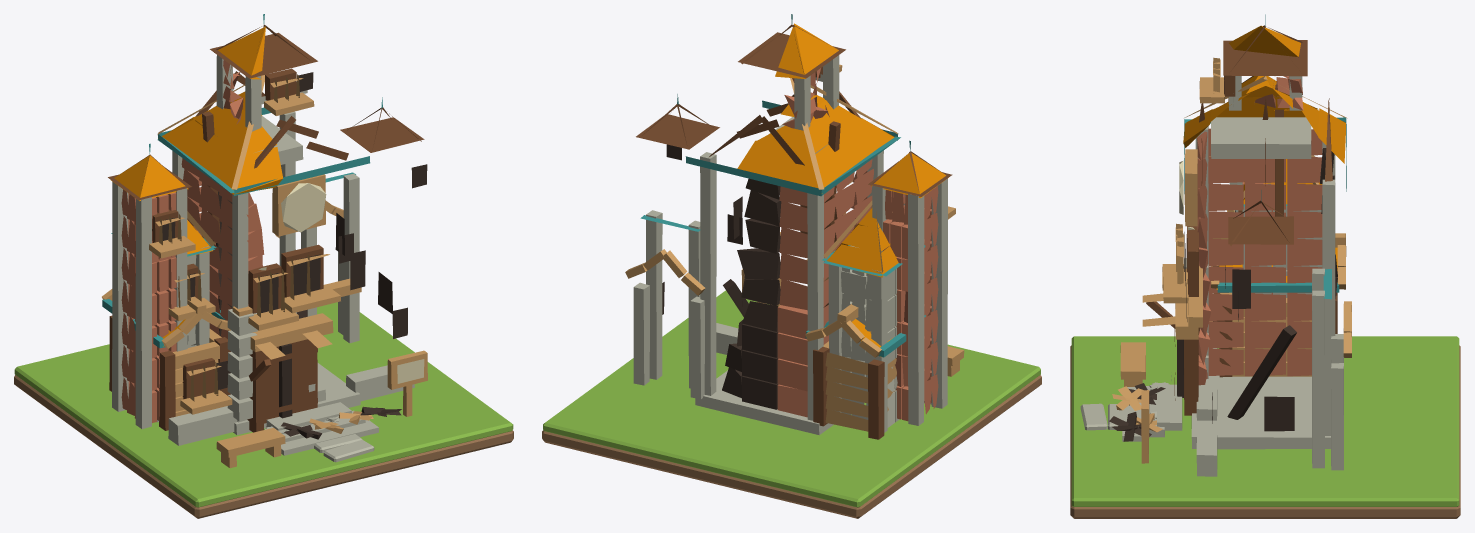
File: town_hall_l09_damaged_LOD2.glb
The picture shows the model from 3 angles, left to right: view 1: azimuth 30°, elevation 25°; view 2: azimuth 150°, elevation 25°; view 3: azimuth 270°, elevation 25°; orthographic projection. The views are drawn at different scales.
Visible parts, largest first — view 1: town_hall_l09_damaged_foundation.001, town_hall_l09_damaged_grass_tile.001, town_hall_l09_damaged_earth_tile.001, town_hall_l09_damaged_path_stone.005; view 2: town_hall_l09_damaged_foundation.001, town_hall_l09_damaged_grass_tile.001, town_hall_l09_damaged_earth_tile.001; view 3: town_hall_l09_damaged_foundation.001, town_hall_l09_damaged_grass_tile.001, town_hall_l09_damaged_earth_tile.001, town_hall_l09_damaged_path_stone.005.
Part boxes in pixels (x1,y1,x2,y2): town_hall_l09_damaged_foundation.001: [102, 14, 427, 468]; town_hall_l09_damaged_grass_tile.001: [14, 302, 513, 507]; town_hall_l09_damaged_earth_tile.001: [14, 375, 513, 518]; town_hall_l09_damaged_path_stone.005: [323, 439, 374, 462]; town_hall_l09_damaged_foundation.001: [625, 14, 964, 439]; town_hall_l09_damaged_grass_tile.001: [543, 290, 1040, 507]; town_hall_l09_damaged_earth_tile.001: [542, 375, 1041, 518]; town_hall_l09_damaged_foundation.001: [1109, 14, 1351, 476]; town_hall_l09_damaged_grass_tile.001: [1071, 336, 1459, 506]; town_hall_l09_damaged_earth_tile.001: [1070, 345, 1460, 518]; town_hall_l09_damaged_path_stone.005: [1080, 403, 1107, 430].
Bounding box in the file's own units: 3.6 × 4.32 × 3.6.
